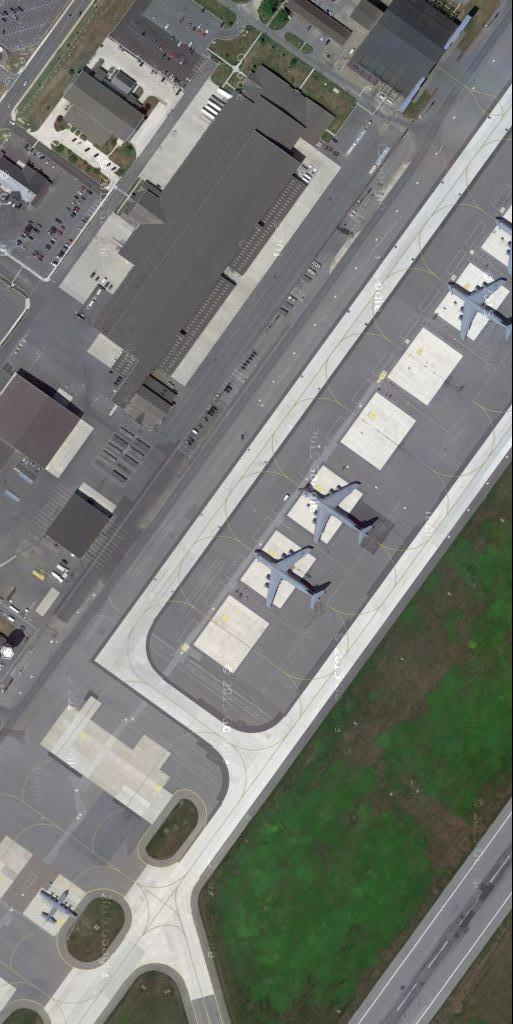C-130: (37, 885, 77, 928)
KC-135: (298, 475, 381, 549), (251, 540, 330, 614), (444, 274, 511, 346)
